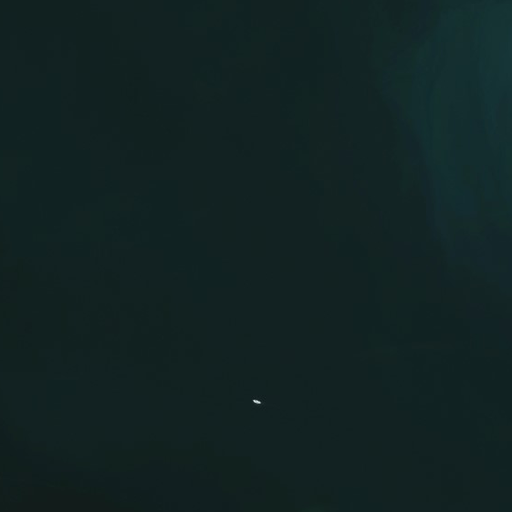ship: (249, 397, 263, 407)
